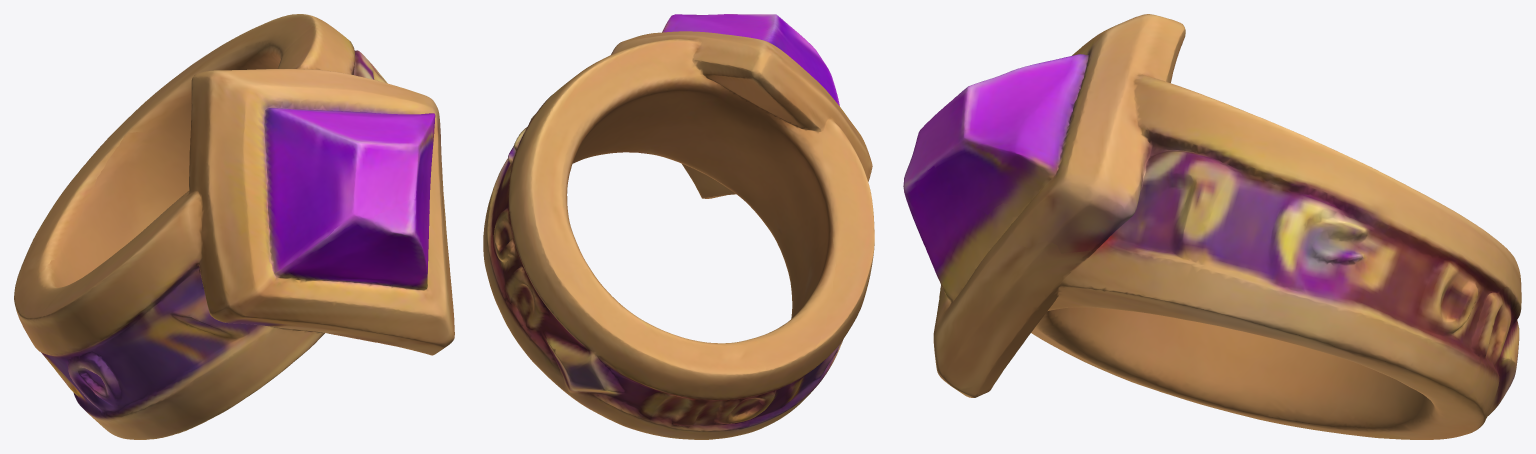
The model's file is anel-1.glb.
3 renders of one model, left to right at view 1: azimuth 30°, elevation 25°; view 2: azimuth 150°, elevation 25°; view 3: azimuth 270°, elevation 25°, orthographic. The views are drawn at different scales.
Parts seen in each view (by area): view 1: tripo_node_ebc4f105-10a8-4b16-a40b-d5813a3c5798.001; view 2: tripo_node_ebc4f105-10a8-4b16-a40b-d5813a3c5798.001; view 3: tripo_node_ebc4f105-10a8-4b16-a40b-d5813a3c5798.001.
Part boxes in pixels (bbox=[...]): tripo_node_ebc4f105-10a8-4b16-a40b-d5813a3c5798.001: bbox=[14, 14, 454, 439]; tripo_node_ebc4f105-10a8-4b16-a40b-d5813a3c5798.001: bbox=[483, 14, 874, 439]; tripo_node_ebc4f105-10a8-4b16-a40b-d5813a3c5798.001: bbox=[903, 14, 1521, 439].
Bounding box in the file's own units: 0.0915 × 0.0879 × 0.1116.
Materials: 1 (1 with a texture image).
